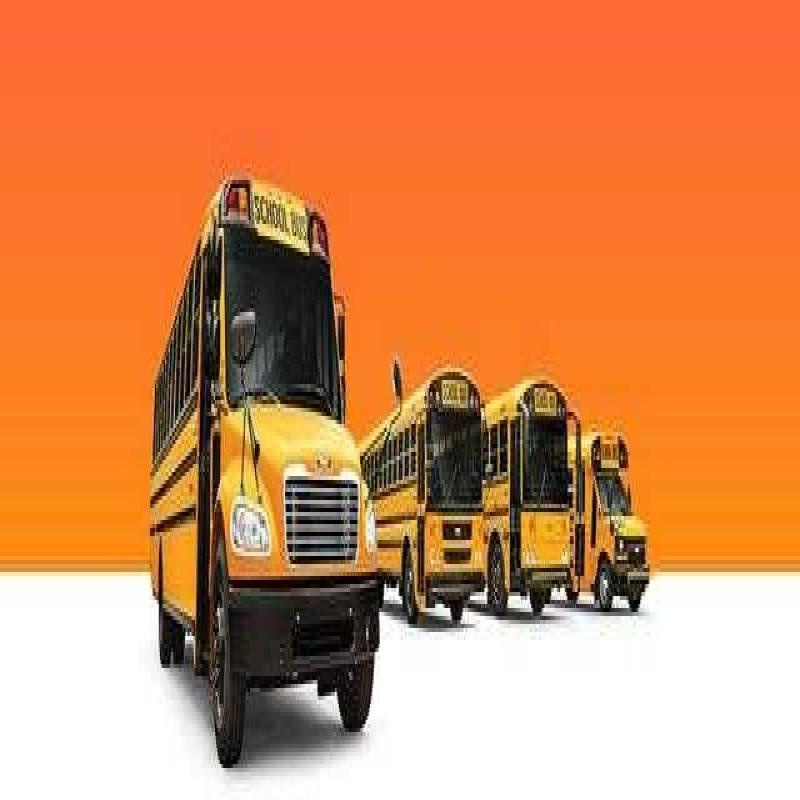bus: (127, 125, 378, 744), (384, 333, 482, 670), (497, 326, 577, 612), (589, 388, 652, 616)
